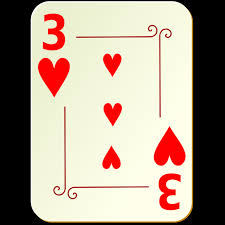three of hearts: (36, 3, 188, 218)
